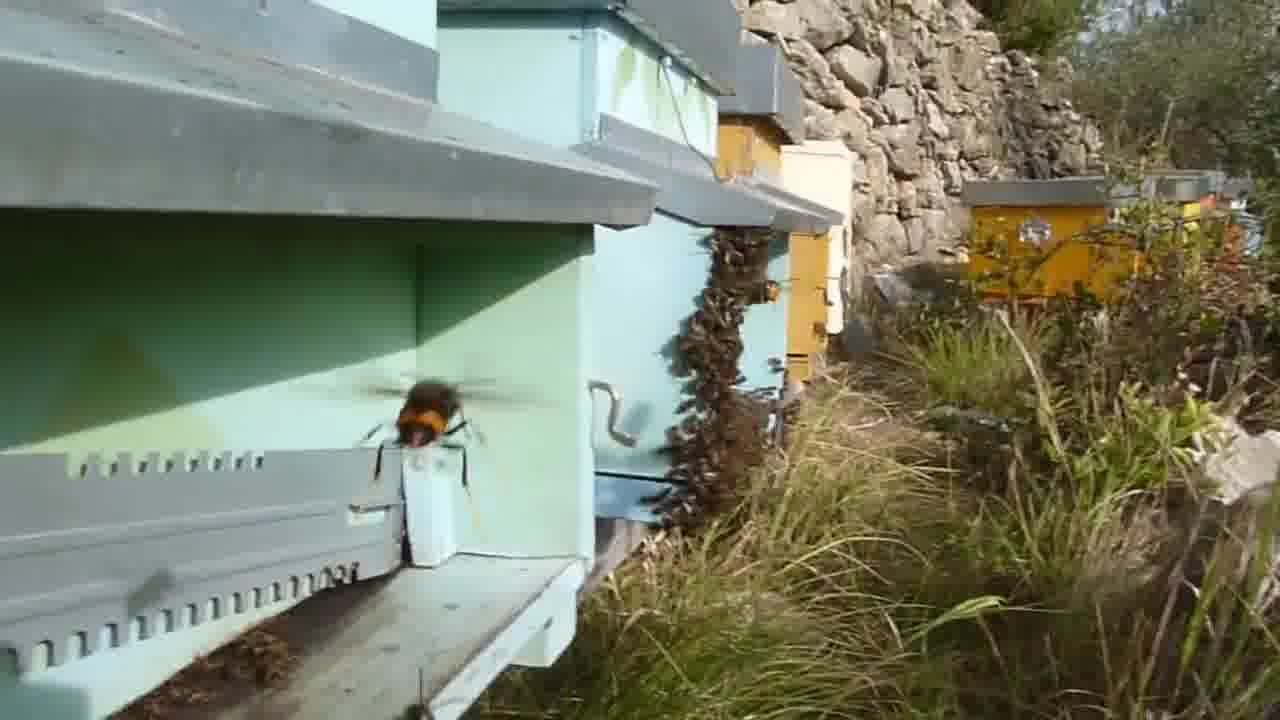bee: (664, 394, 747, 505), (669, 309, 750, 392), (700, 228, 758, 312), (236, 631, 292, 693)
hornet: (375, 370, 475, 456), (743, 274, 787, 308)
